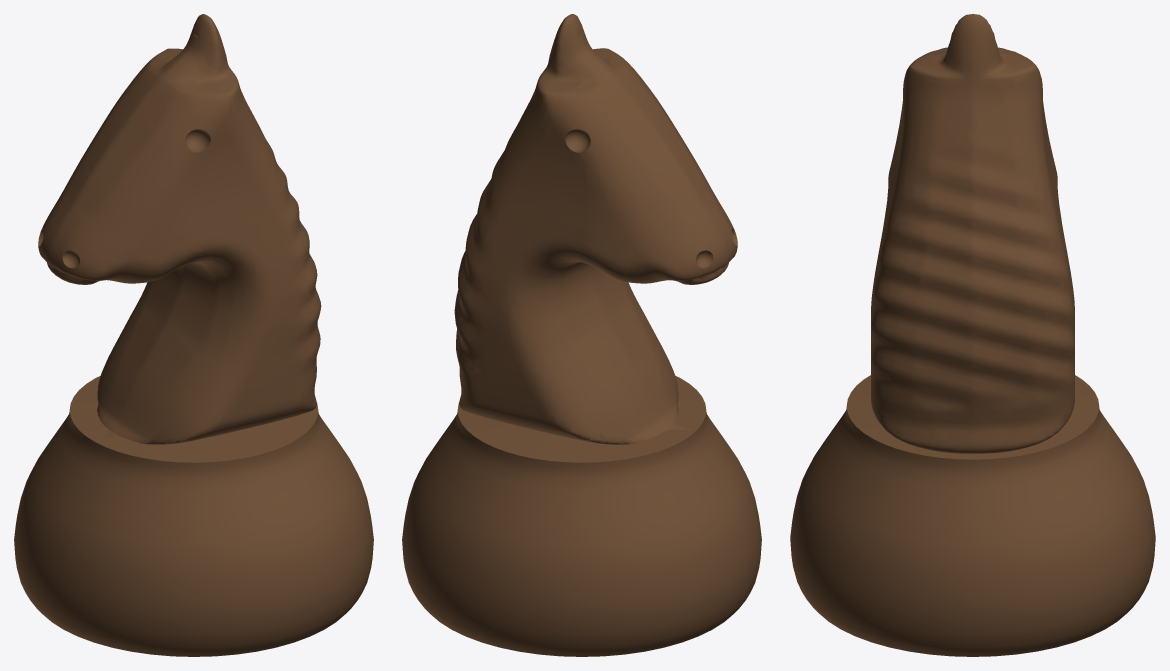
Rendered from black-knight.glb.
3 views of the same model, side by side, from view 1: azimuth 30°, elevation 25°; view 2: azimuth 150°, elevation 25°; view 3: azimuth 270°, elevation 25° (orthographic).
Visible parts, largest first — view 1: black-knight.001; view 2: black-knight.001; view 3: black-knight.001.
Boxes of the visible parts, x1,y1,x2,y2 form: black-knight.001: (14,14,373,656); black-knight.001: (402,14,761,656); black-knight.001: (790,14,1155,656).
Size of the model in its own units: 0.68 by 1.19 by 0.68.
